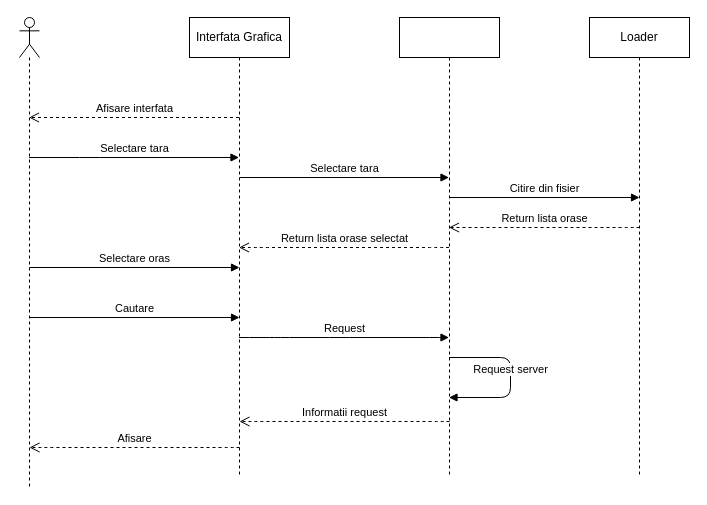
This 707x505 diagram has some shape labels left out. The shapes that lost their labels are listed below. From the top down, each one's box as (x1, y1, x2, y2) in pixels, then its label:
(18, 16, 40, 488): User
(398, 16, 500, 478): WeatherController
